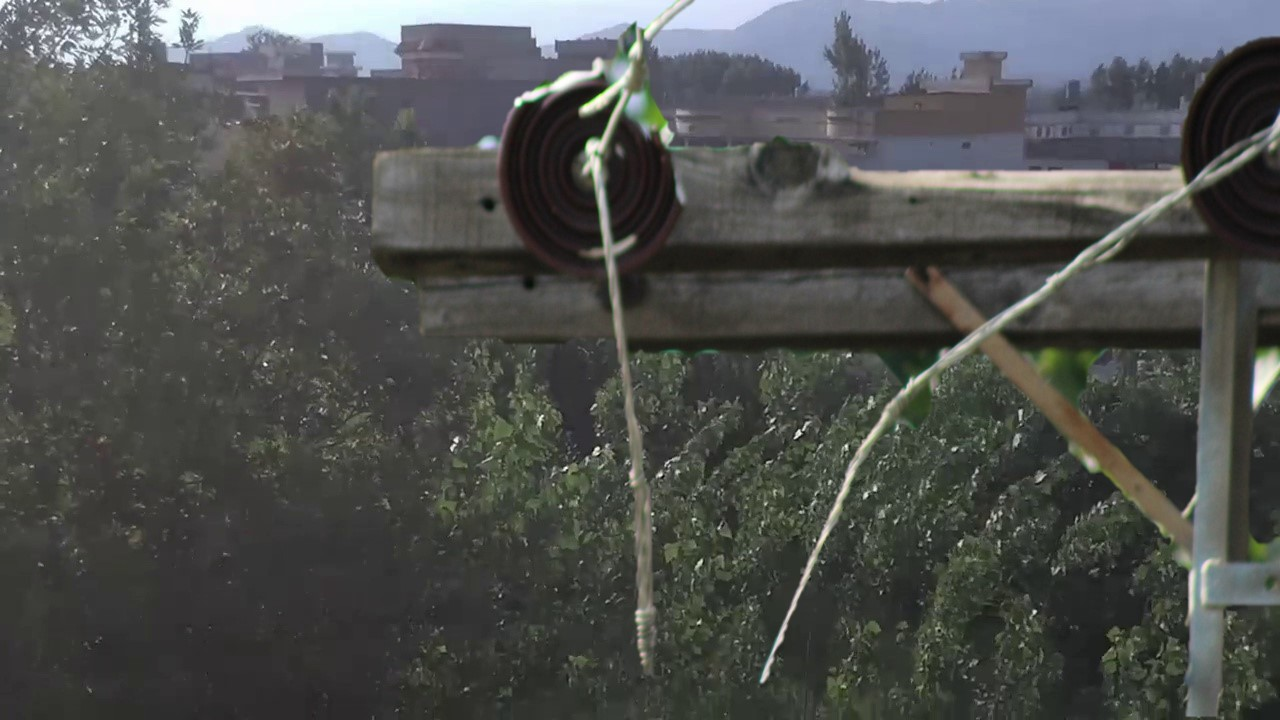defect_disc: (496, 64, 694, 285)
